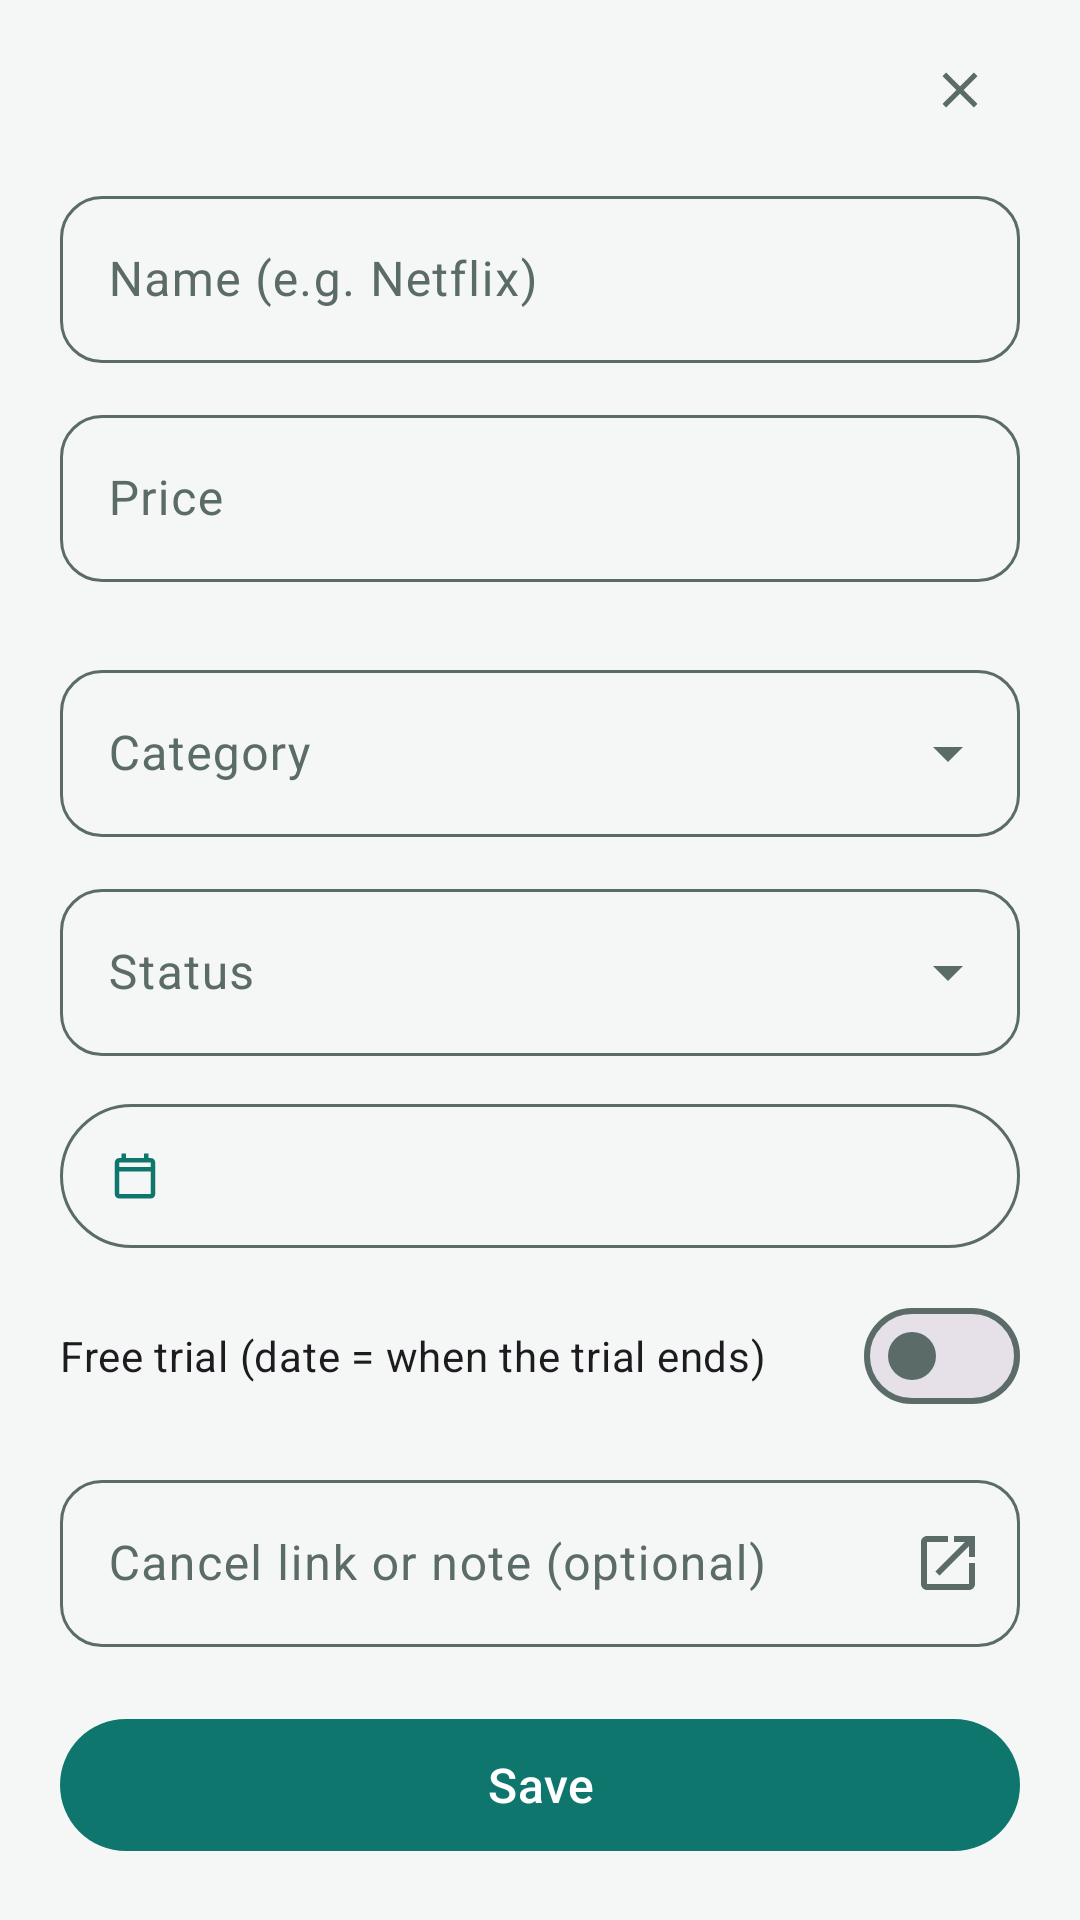

Screen size 1080x1920. Icon name, then its center in pixels as point (x, y):
Cancel: point (960, 90)
